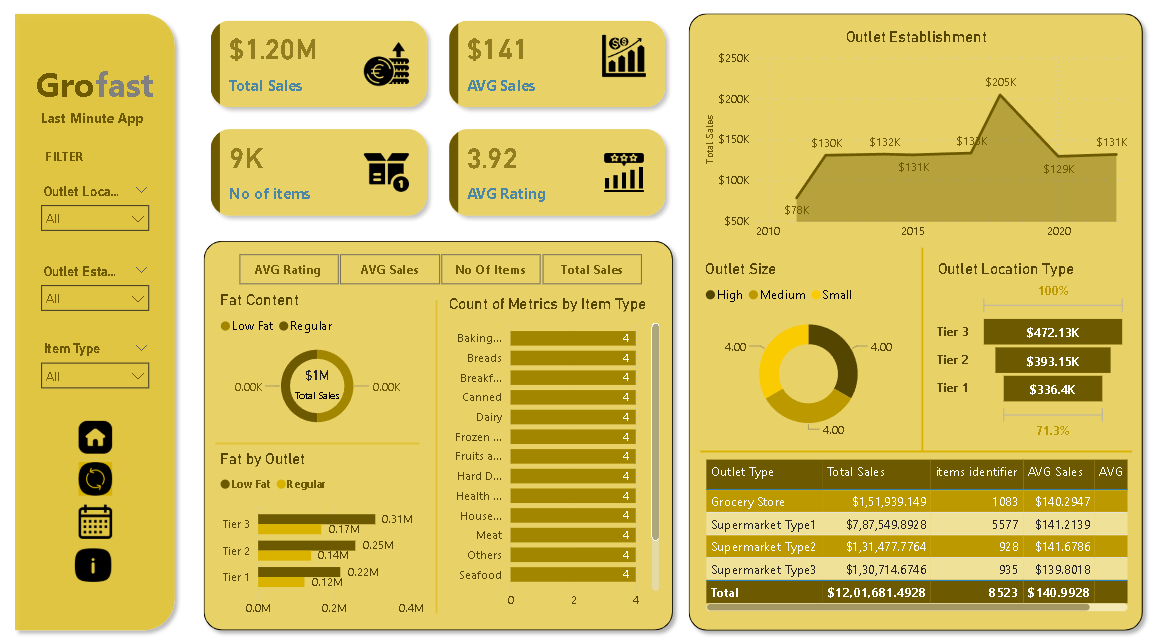

The dashboard page shown, as its layout file describes it:
{"tool":"powerbi","page":{"name":"Home","canvas":[1280,720],"ordinal":0},"visuals":[{"type":"shape","box":[14.6,11.7,193.6,695.4],"z":0},{"type":"textbox","box":[42.8,69.1,148.8,59.3],"z":1000},{"type":"textbox","box":[48.6,120.6,125.5,30.2],"z":2000},{"type":"textbox","box":[53.5,165.3,64.2,30.2],"z":3000},{"type":"slicer","fields":{"Values":["Grocery Data.Outlet Location Type"]},"box":[42.8,203.3,139.1,69.1],"z":4000},{"type":"slicer","fields":{"Values":["Grocery Data.Outlet Establishment Year"]},"box":[42.8,290.8,139.1,69.1],"z":5000},{"type":"slicer","fields":{"Values":["Grocery Data.Item Type"]},"box":[42.8,375.4,139.1,69.1],"z":6000},{"type":"image","box":[88.5,509.7,46.7,46.7],"z":7000},{"type":"image","box":[88.5,464,46.7,45.7],"z":8000},{"type":"image","box":[88.5,556.4,46.7,47.7],"z":9000},{"type":"image","box":[85.6,604,49.6,46.7],"z":10000},{"type":"cardVisual","fields":{"Data":["Measure.Total Sales","Measure.AVG Sales","Measure.items identifier","Measure.AVG Rating"]},"box":[221.8,11.7,533,250],"z":11000},{"type":"shape","box":[221.8,261.6,533,445.5],"z":12000},{"type":"slicer","fields":{"Values":["Metrics.Metrics"]},"box":[244.1,279.1,492.2,46.7],"z":13000},{"type":"donutChart","title":"Fat Content","fields":{"Category":["Grocery Data.Item Fat Content"],"Y":["CountNonNull(Metrics.Metrics)"]},"box":[244.1,325.8,223.7,161.5],"z":14000},{"type":"card","fields":{"Values":["Measure.Total Sales"]},"box":[327.8,406.6,56.4,40],"z":15000},{"type":"shape","box":[244.1,487.3,223.7,12.6],"z":16000},{"type":"clusteredBarChart","title":"Fat by Outlet","fields":{"Y":["Sum(Grocery Data.Sales)"],"Series":["Grocery Data.Item Fat Content"],"Category":["Grocery Data.Outlet Location Type"]},"box":[244.1,499.9,233.4,193.6],"z":17000},{"type":"shape","box":[467.8,336.5,37.9,344.3],"z":18000},{"type":"barChart","fields":{"Category":["Grocery Data.Item Type"],"Y":["CountNonNull(Metrics.Metrics)"]},"box":[495.1,328.8,241.2,355],"z":19000},{"type":"shape","box":[754.8,11.7,516.5,695.4],"z":20000},{"type":"lineChart","title":"Outlet Establishment ","fields":{"Category":["Grocery Data.Outlet Establishment Year"],"Y":["Measure.Total Sales"]},"box":[776.2,37,473.7,242.2],"z":21000},{"type":"donutChart","title":"Outlet Size","fields":{"Category":["Grocery Data.Outlet Size"],"Y":["CountNonNull(Metrics.Metrics)"]},"box":[776.2,290.8,237.3,203.3],"z":22000},{"type":"funnel","title":"Outlet Location Type","fields":{"Category":["Grocery Data.Outlet Location Type"],"Y":["Measure.Total Sales"]},"box":[1032,290.8,217.9,203.3],"z":23000},{"type":"tableEx","fields":{"Values":["Grocery Data.Outlet Type","Measure.Total Sales","Measure.items identifier","Measure.AVG Sales","Measure.AVG Rating"]},"box":[776.2,506.7,473.7,176],"z":24000},{"type":"shape","box":[776.2,494.1,473.7,16.5],"z":25000},{"type":"shape","box":[1008.6,279.1,23.3,223.7],"z":26000}]}

Visuals, with their boxes in screenshot pixels (x1, y1, x2, y2), scaled from the page's 1280x720 canvas onto the 1155x642 screenshot:
shape: <box>13,10,188,630</box>
textbox: <box>39,62,173,114</box>
textbox: <box>44,108,157,134</box>
textbox: <box>48,147,106,174</box>
slicer - Grocery Data.Outlet Location Type: <box>39,181,164,243</box>
slicer - Grocery Data.Outlet Establishment Year: <box>39,259,164,321</box>
slicer - Grocery Data.Item Type: <box>39,335,164,396</box>
image: <box>80,454,122,496</box>
image: <box>80,414,122,454</box>
image: <box>80,496,122,539</box>
image: <box>77,539,122,580</box>
cardVisual - Measure.Total Sales x Measure.AVG Sales: <box>200,10,681,233</box>
shape: <box>200,233,681,630</box>
slicer - Metrics.Metrics: <box>220,249,664,291</box>
"Fat Content" donutChart: <box>220,291,422,435</box>
card - Measure.Total Sales: <box>296,363,347,398</box>
shape: <box>220,435,422,446</box>
"Fat by Outlet" clusteredBarChart: <box>220,446,431,618</box>
shape: <box>422,300,456,607</box>
barChart - Grocery Data.Item Type x CountNonNull(Metrics.Metrics): <box>447,293,664,610</box>
shape: <box>681,10,1147,630</box>
"Outlet Establishment " lineChart: <box>700,33,1128,249</box>
"Outlet Size" donutChart: <box>700,259,915,441</box>
"Outlet Location Type" funnel: <box>931,259,1128,441</box>
tableEx - Grocery Data.Outlet Type x Measure.Total Sales: <box>700,452,1128,609</box>
shape: <box>700,441,1128,455</box>
shape: <box>910,249,931,448</box>
